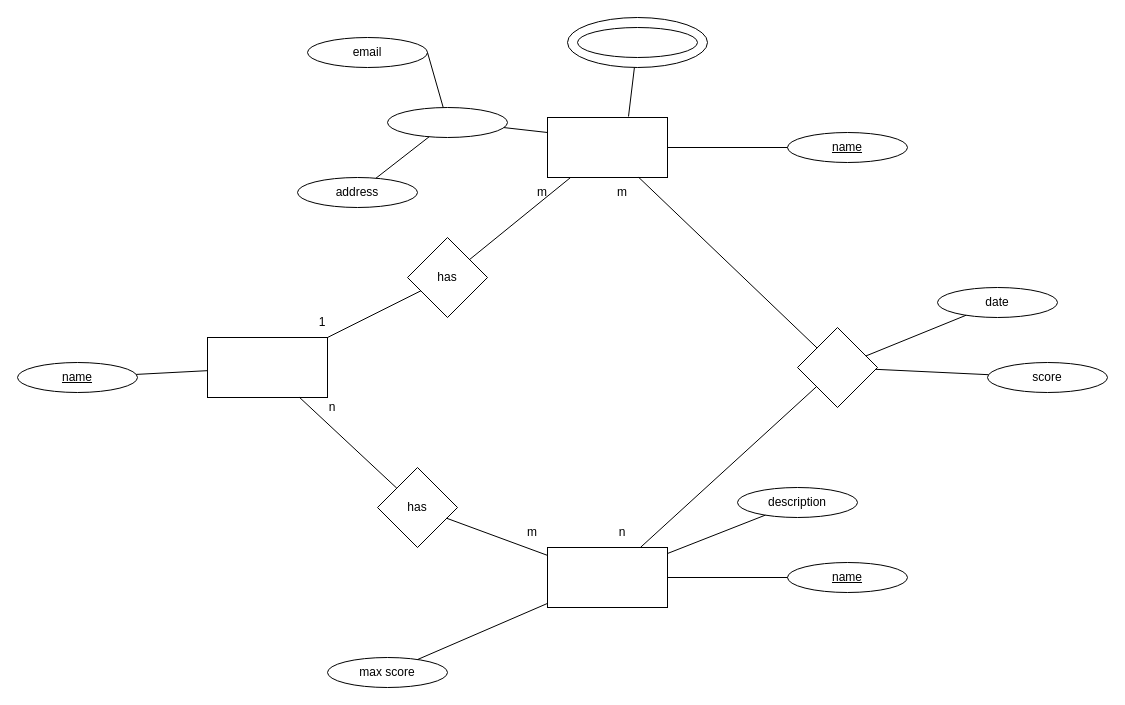
This 1125x705 diagram has some shape labels left out. The shapes that lost their labels are listed below. From the top down, each one's centre as x and y in pixels, then its label:
(637,42): phone
(447,122): contact
(607,147): Student
(267,367): track
(837,367): examed
(607,577): Subject
